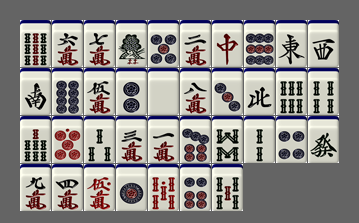0m: (84, 164, 115, 211)
0p: (52, 116, 83, 163)
0s: (148, 164, 179, 211)
1m: (148, 116, 179, 163)
1p: (116, 164, 147, 211)
1s: (116, 20, 147, 67)
1z: (276, 20, 307, 67)
2m: (180, 20, 211, 67)
2p: (116, 68, 147, 115)
2s: (244, 116, 275, 163)
2z: (20, 68, 51, 115)
3m: (116, 116, 147, 163)
3p: (212, 68, 243, 115)
3s: (84, 116, 115, 163)
3z: (308, 20, 339, 67)
4m: (52, 164, 83, 211)
4p: (276, 116, 307, 163)
4s: (308, 68, 339, 115)
4z: (244, 68, 275, 115)
5m: (84, 68, 115, 115)
5p: (148, 20, 179, 67)
5s: (212, 164, 243, 211)
5z: (148, 68, 179, 115)
6m: (52, 20, 83, 67)
6p: (180, 164, 211, 211)
6s: (276, 68, 307, 115)
6z: (308, 116, 339, 163)
7m: (84, 20, 115, 67)
7p: (180, 116, 211, 163)
7s: (20, 116, 51, 163)
7z: (212, 20, 243, 67)
8m: (180, 68, 211, 115)
8p: (52, 68, 83, 115)
8s: (212, 116, 243, 163)
9m: (20, 164, 51, 211)
9p: (244, 20, 275, 67)
9s: (20, 20, 51, 67)
